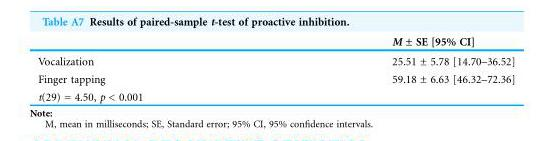table: (37, 36, 514, 102)
table column: (266, 36, 514, 102), (37, 36, 266, 102)
table column header: (37, 36, 514, 51)
table row: (37, 51, 514, 70), (37, 70, 514, 88), (37, 36, 514, 51), (37, 88, 514, 102)
